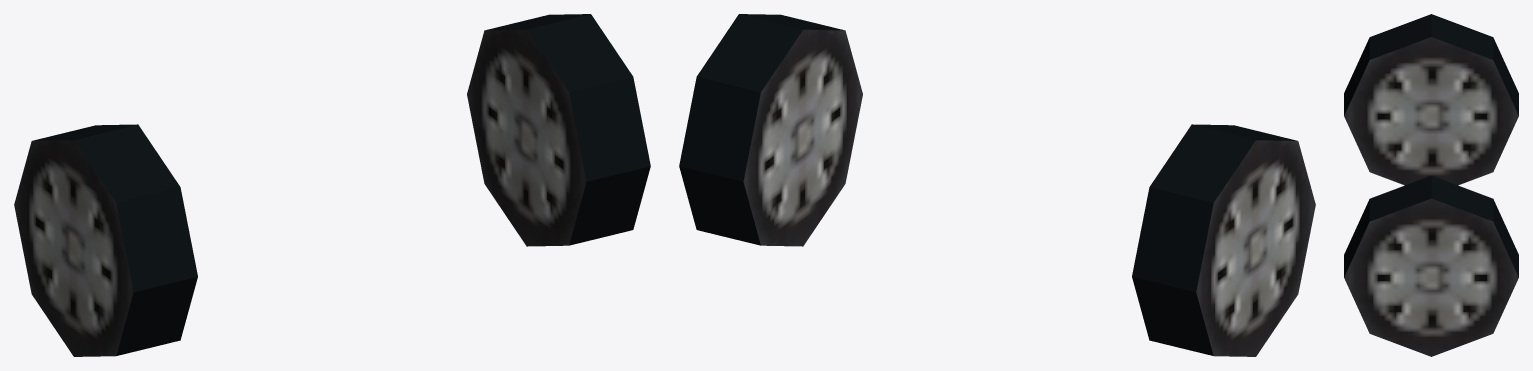
File: volvo_estate_wheels_r.obj
The picture shows the model from 3 angles, left to right: view 1: azimuth 30°, elevation 25°; view 2: azimuth 150°, elevation 25°; view 3: azimuth 270°, elevation 25°; orthographic projection. The views are drawn at different scales.
Parts seen in each view (by area): view 1: volvo_estate_wheels_r; view 2: volvo_estate_wheels_r; view 3: volvo_estate_wheels_r.
Boxes of the visible parts, left/top/right/bottom form: volvo_estate_wheels_r: left=14, top=14, right=650, bottom=356; volvo_estate_wheels_r: left=679, top=14, right=1315, bottom=356; volvo_estate_wheels_r: left=1344, top=14, right=1518, bottom=356.
Bounding box in the file's own units: 1.61 × 0.6442 × 0.6442.
Materials: 1 (1 with a texture image).
